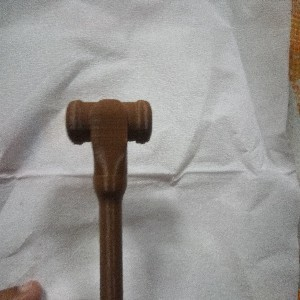palu: (65, 97, 152, 300)
